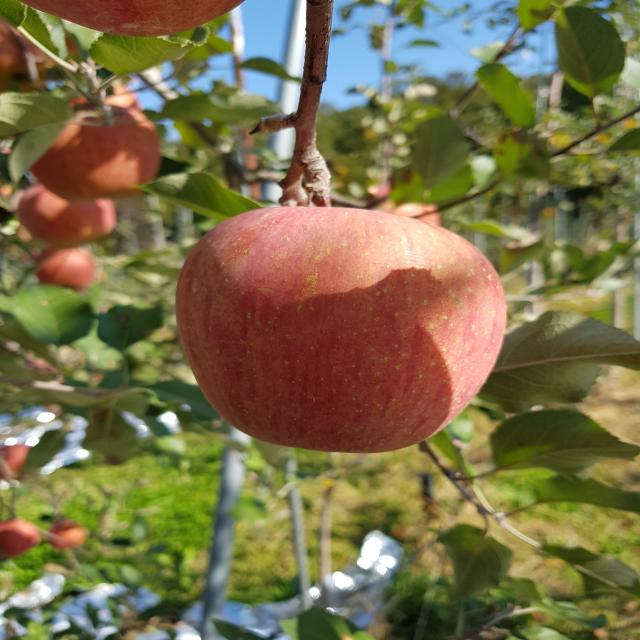fresh: (167, 198, 524, 463)
